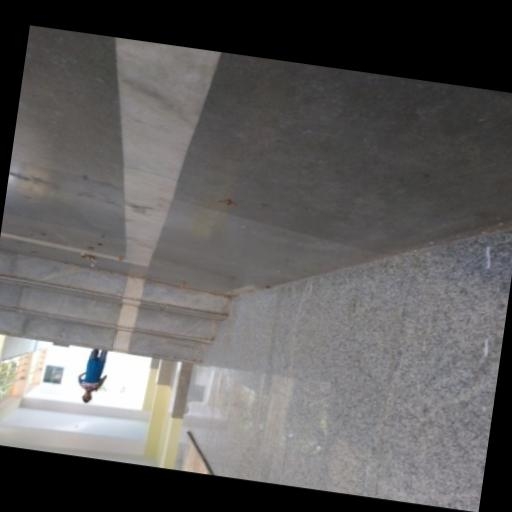stairs: (0, 249, 229, 361)
